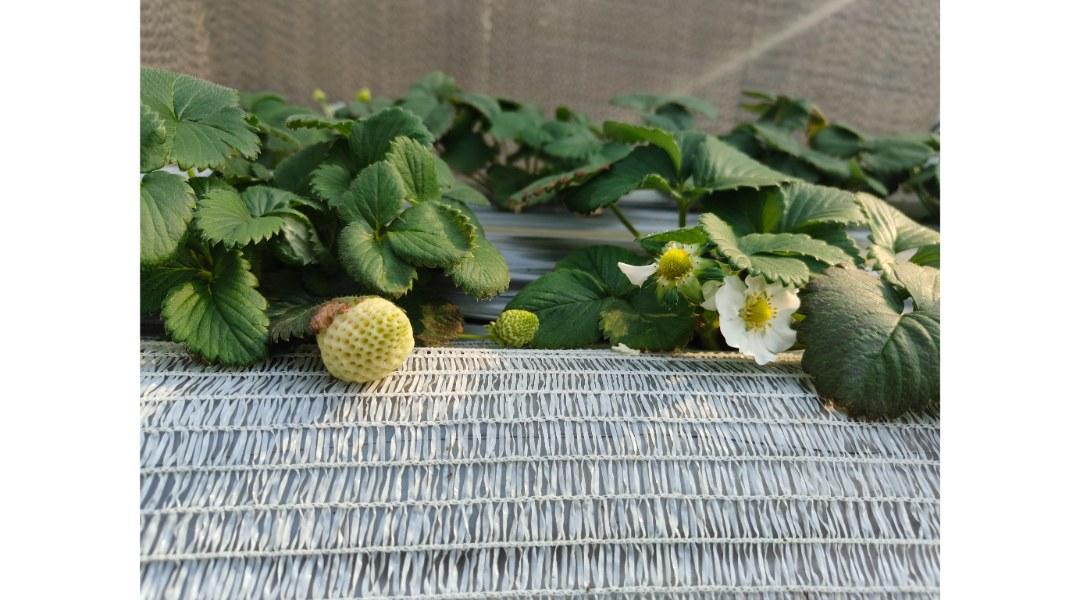berry: (308, 288, 422, 397), (638, 230, 713, 297), (487, 297, 549, 358)
flower: (715, 257, 815, 372)
